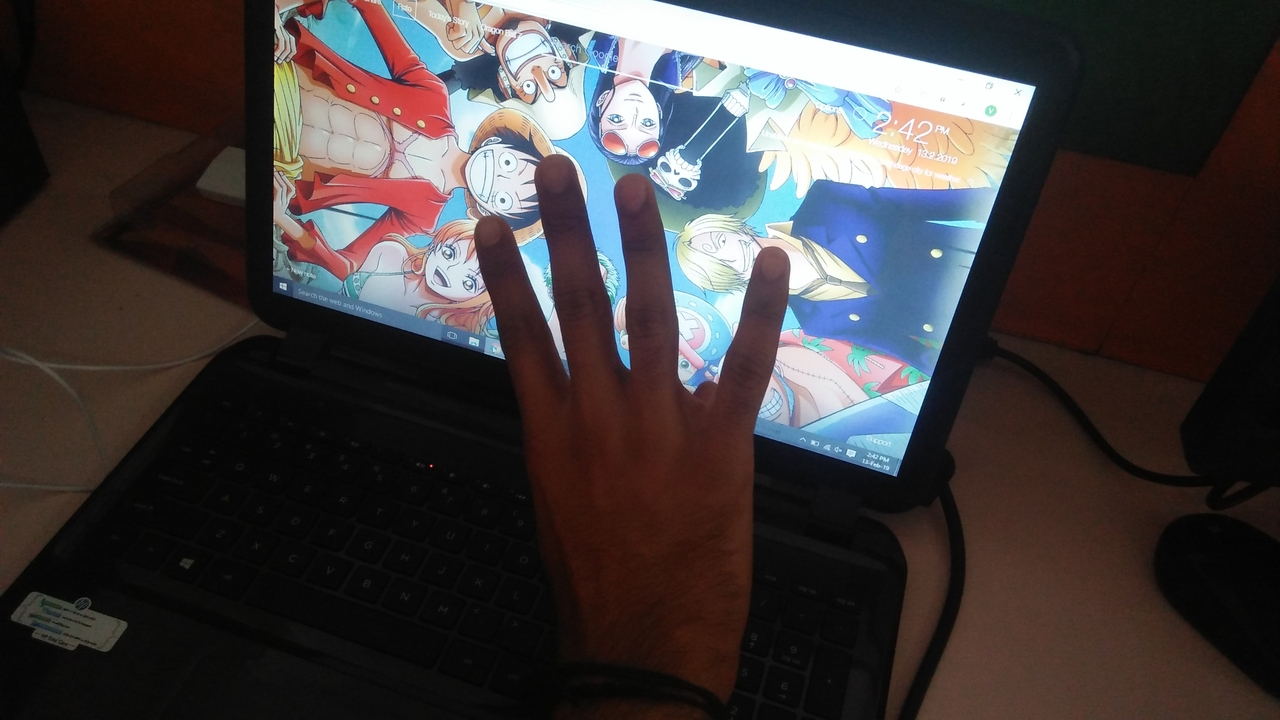fingertip: (526, 146, 584, 198), (746, 240, 798, 292), (610, 164, 662, 214), (468, 204, 518, 254)
